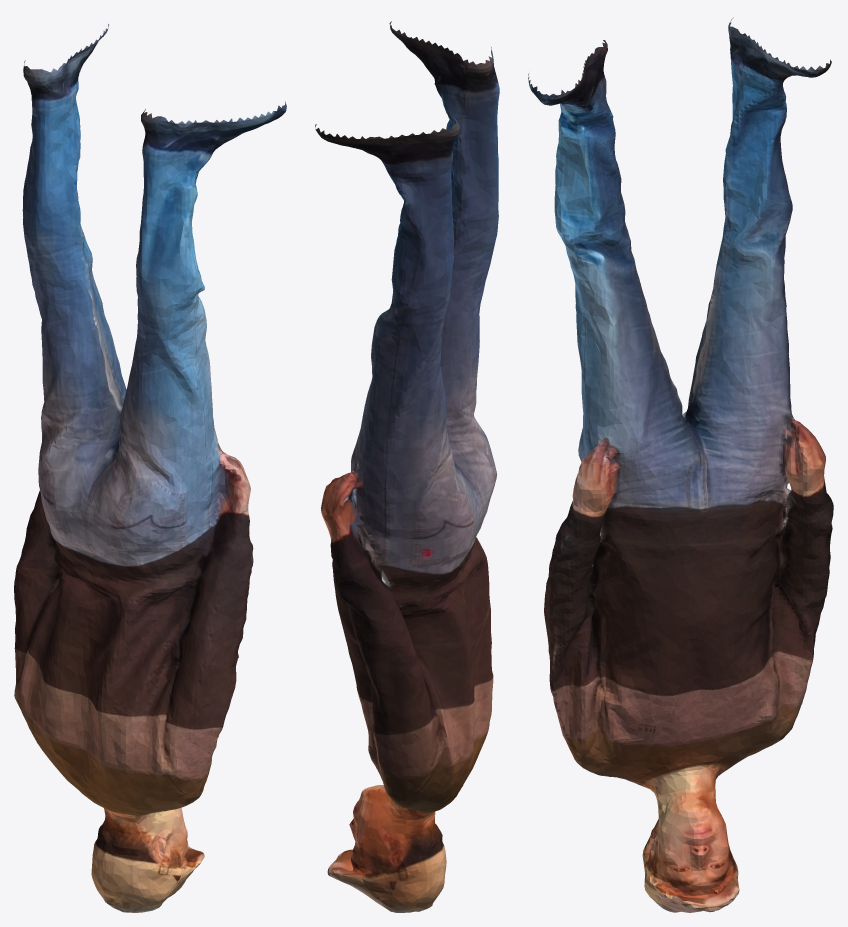
File: 20191201-set04-zhao-draco.gltf
3 renders of one model, left to right at view 1: azimuth 30°, elevation 25°; view 2: azimuth 150°, elevation 25°; view 3: azimuth 270°, elevation 25°, orthographic. The views are drawn at different scales.
Visible parts, largest first — view 1: Node; view 2: Node; view 3: Node.
Boxes of the visible parts, left/top/right/bottom form: Node: left=14, top=24, right=286, bottom=912; Node: left=315, top=21, right=499, bottom=912; Node: left=528, top=17, right=833, bottom=912.
Bounding box in the file's own units: 0.3734 × 1.84 × 0.5931.
1 material, 1 textured.
